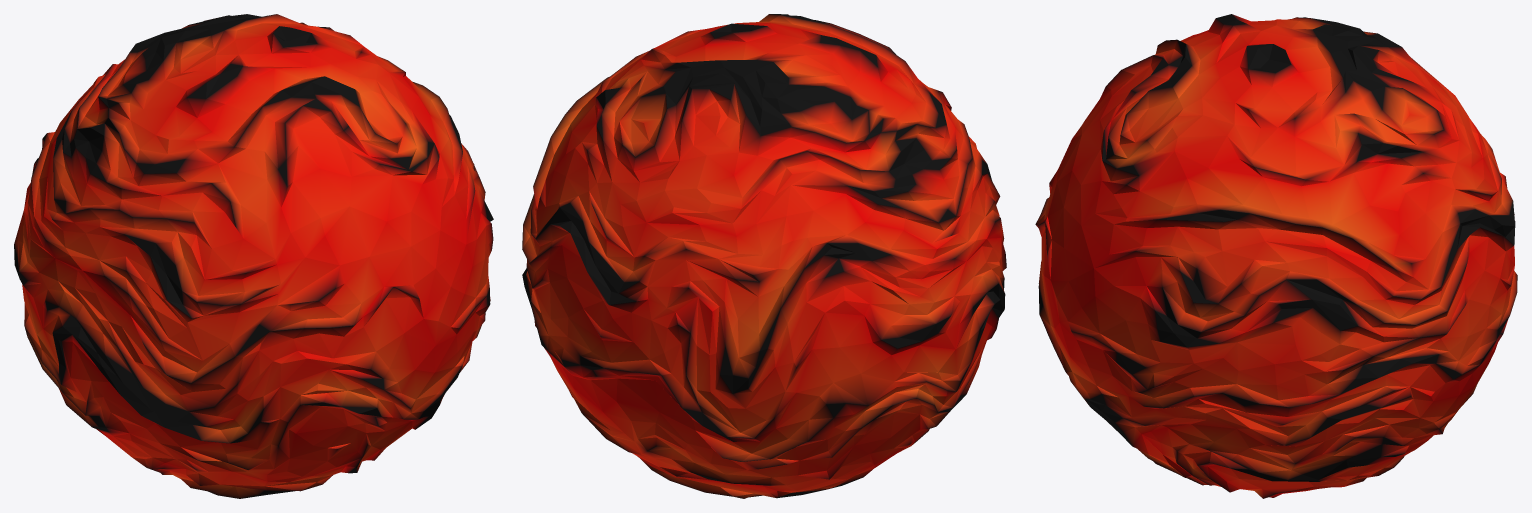
Rendered from volcanic_planet_12.fbx.
The picture shows the model from 3 angles, left to right: view 1: azimuth 30°, elevation 25°; view 2: azimuth 150°, elevation 25°; view 3: azimuth 270°, elevation 25°; orthographic projection.
Parts seen in each view (by area): view 1: filecache2; view 2: filecache2; view 3: filecache2.
Part boxes in pixels (x1=…): filecache2: x1=14, y1=14, x2=493, y2=498; filecache2: x1=522, y1=14, x2=1006, y2=498; filecache2: x1=1035, y1=14, x2=1517, y2=498.
Size of the model in its own units: 2.04 by 2.07 by 2.04.
